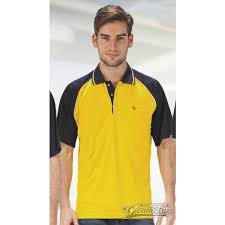C_polo shirt: (58, 65, 170, 218)
